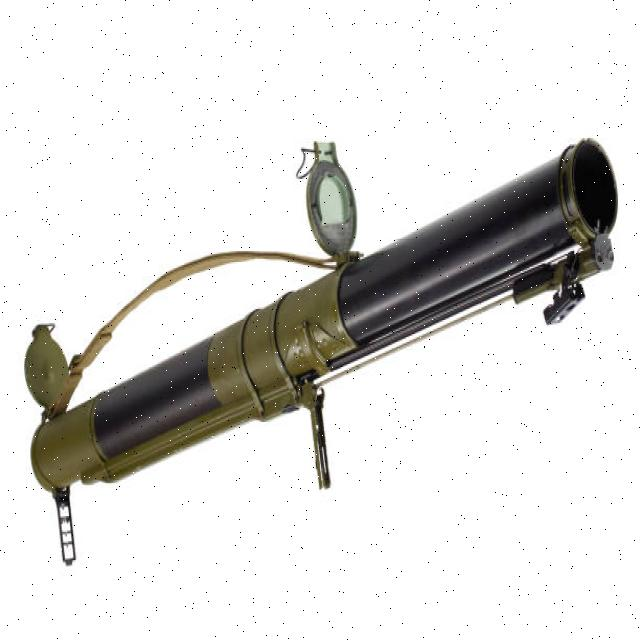bazooka: (22, 130, 625, 582)
